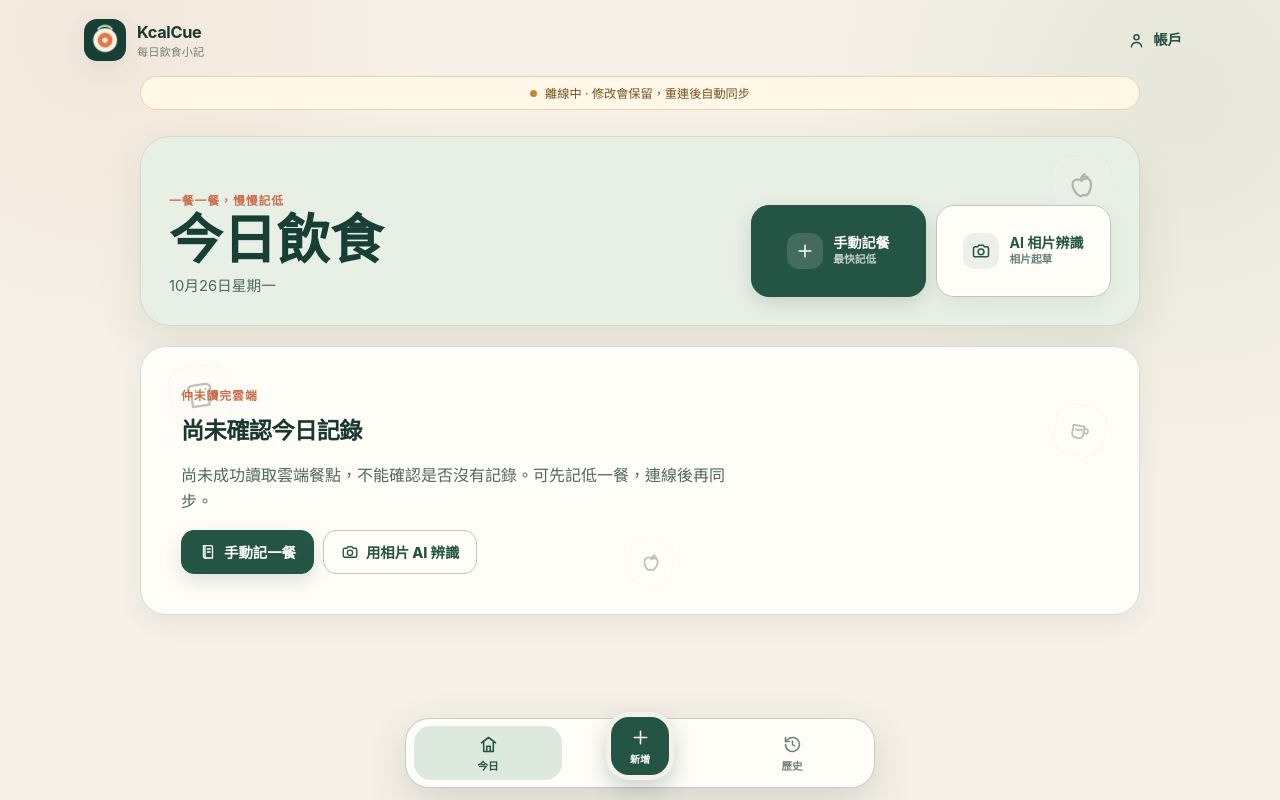
Test: does not clear or sign out B when A's logout preflight finishes after an account change
Check: the heading "尚未確認今日記錄" is shown, box [181, 416, 362, 444]
Click the button with aria-label "帳戶與安裝".
click(1155, 40)  # box [1113, 18, 1196, 62]
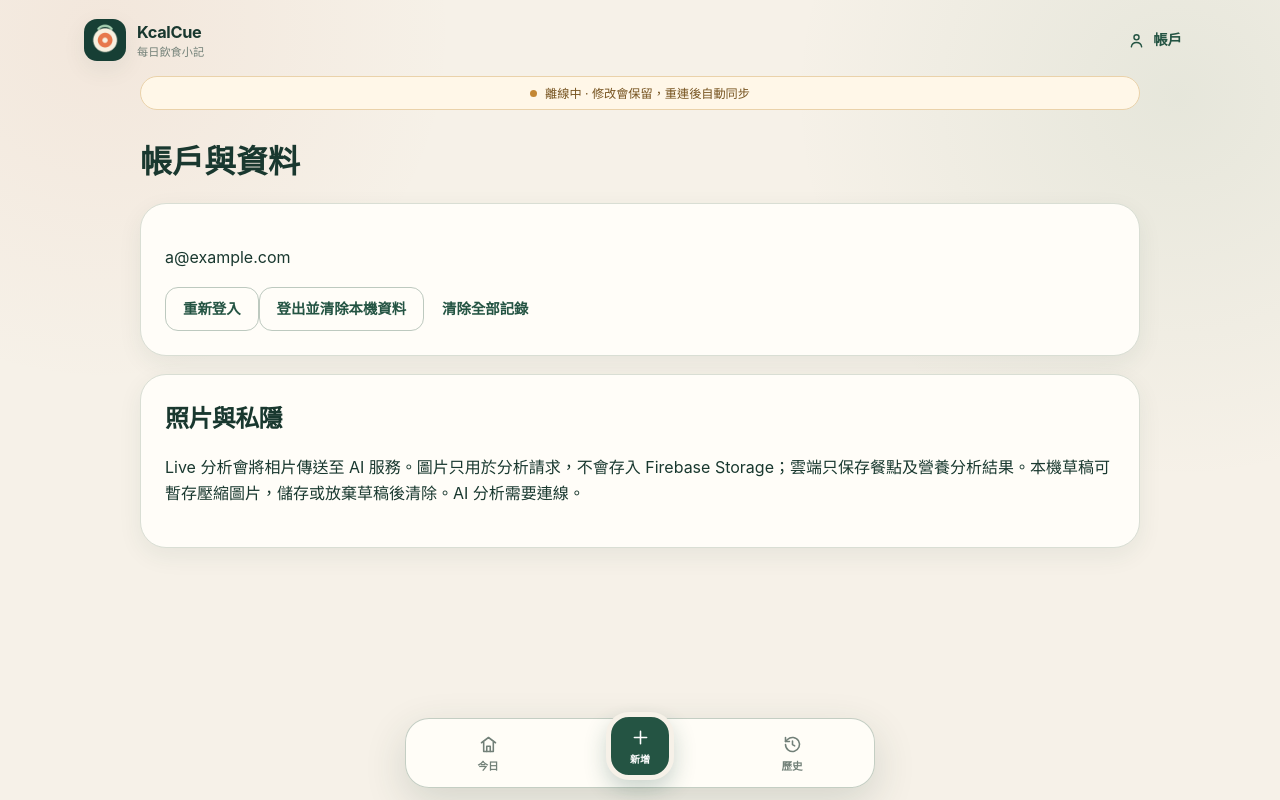
Click the button "登出並清除本機資料".
click(341, 309)  # box [259, 287, 424, 331]
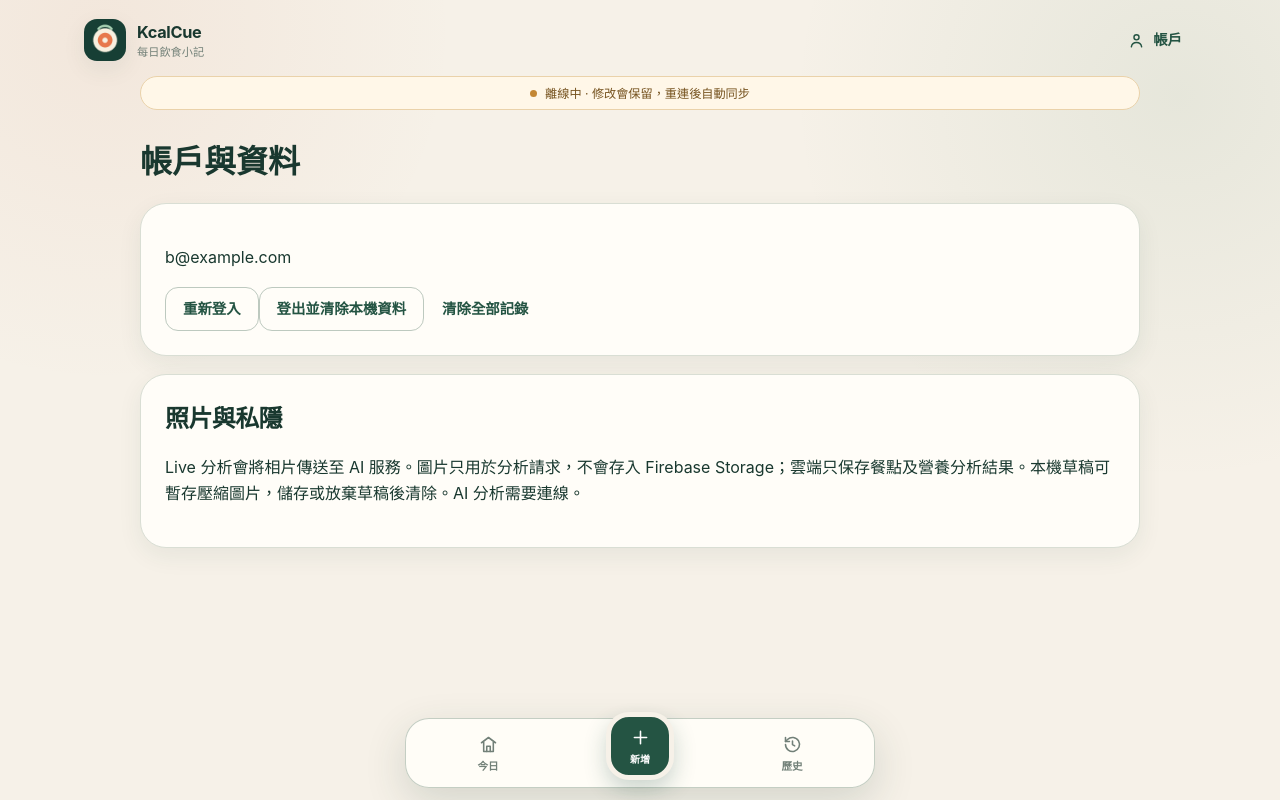
Check: the text "b@example.com" is shown, box [165, 247, 291, 267]
